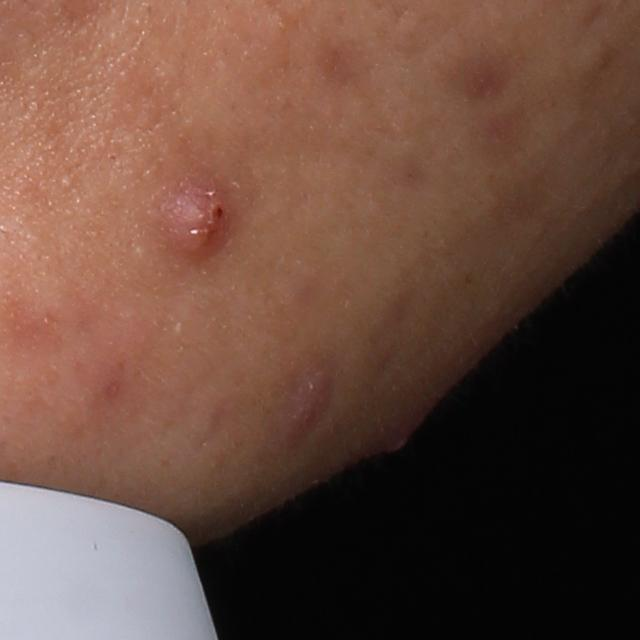comedo: (579, 42, 611, 80)
papule: (162, 190, 234, 260), (282, 368, 335, 436)
